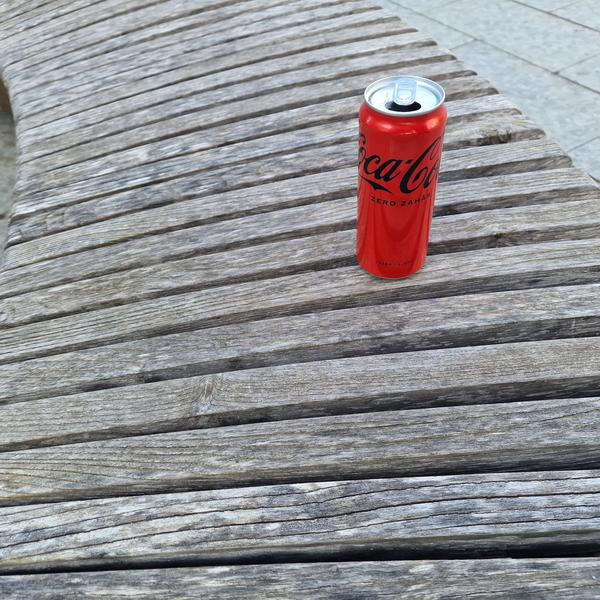can: (341, 67, 451, 286)
